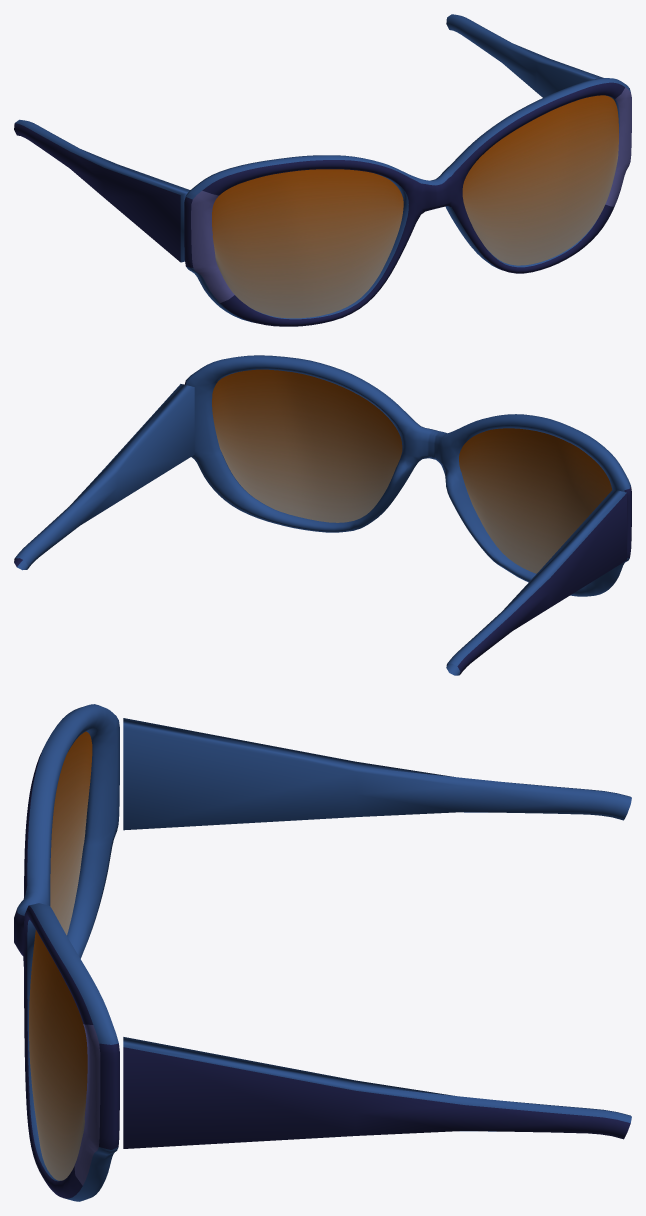
Rendered from purpleglasses2.obj.
The picture shows the model from 3 angles, top to bottom: view 1: azimuth 30°, elevation 25°; view 2: azimuth 150°, elevation 25°; view 3: azimuth 270°, elevation 25°; orthographic projection. The views are drawn at different scales.
Size of the model in its own units: 38.98 by 13.99 by 30.92.
Materials: 4 (1 with a texture image).
